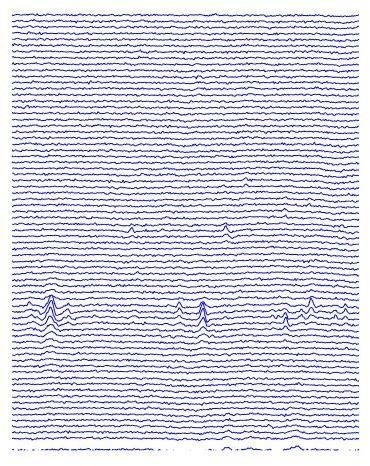defect: (282, 293, 317, 325), (38, 290, 61, 333), (190, 296, 209, 331), (329, 299, 351, 326), (217, 217, 238, 244)
